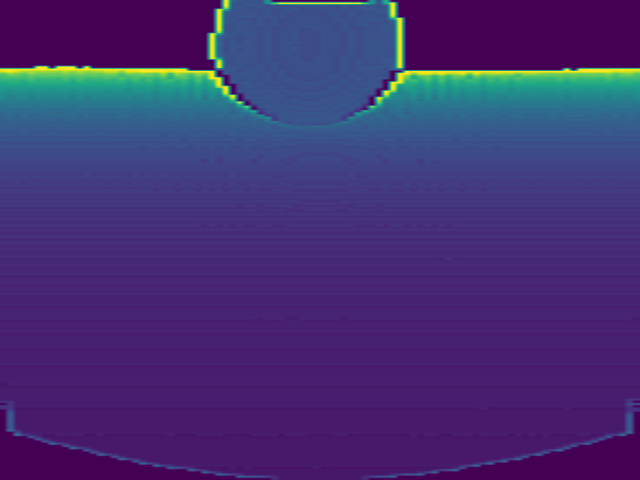sphere: (207, 1, 405, 128)
